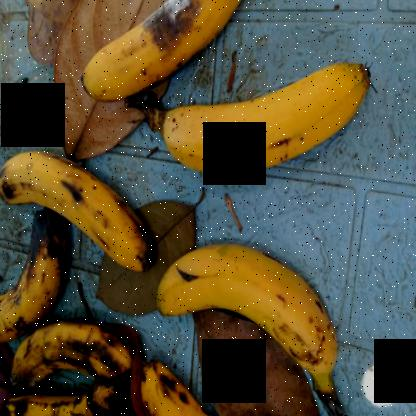freshripe: (147, 227, 375, 379), (151, 57, 382, 188)
ripe: (0, 134, 156, 274), (78, 1, 258, 103), (140, 358, 329, 415)
rotten: (0, 310, 136, 394), (0, 214, 69, 354), (0, 386, 127, 415)
